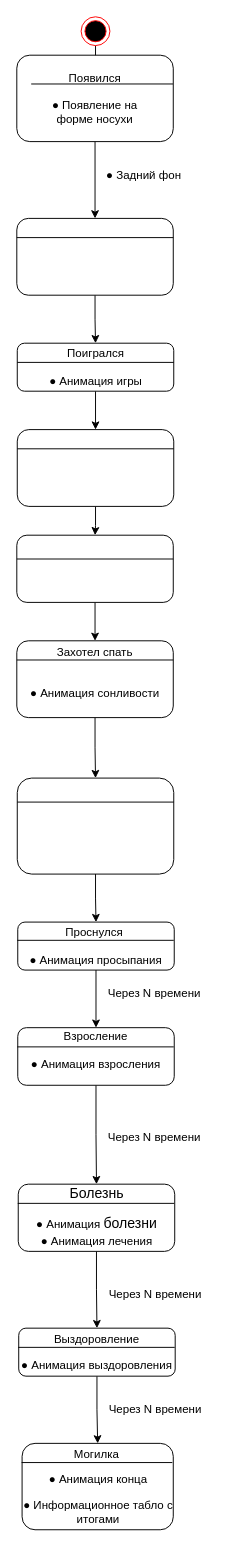
Image size: 229x1554. Some labels were removed from this diagram. The shapes that lost their labels are listed below. From the top down, each one's box as (x1, y1, x2, y2) in pixels, then its label:
(16, 217, 173, 295): Заскучал ● Анимация скуки
(16, 429, 174, 506): Проголодался ● Анимация голода
(16, 534, 173, 602): Поел ● Текстуры еды ● Анимация еды
(16, 777, 174, 874): Сон ● Анимация сна ● Анимация пропуска ночи
